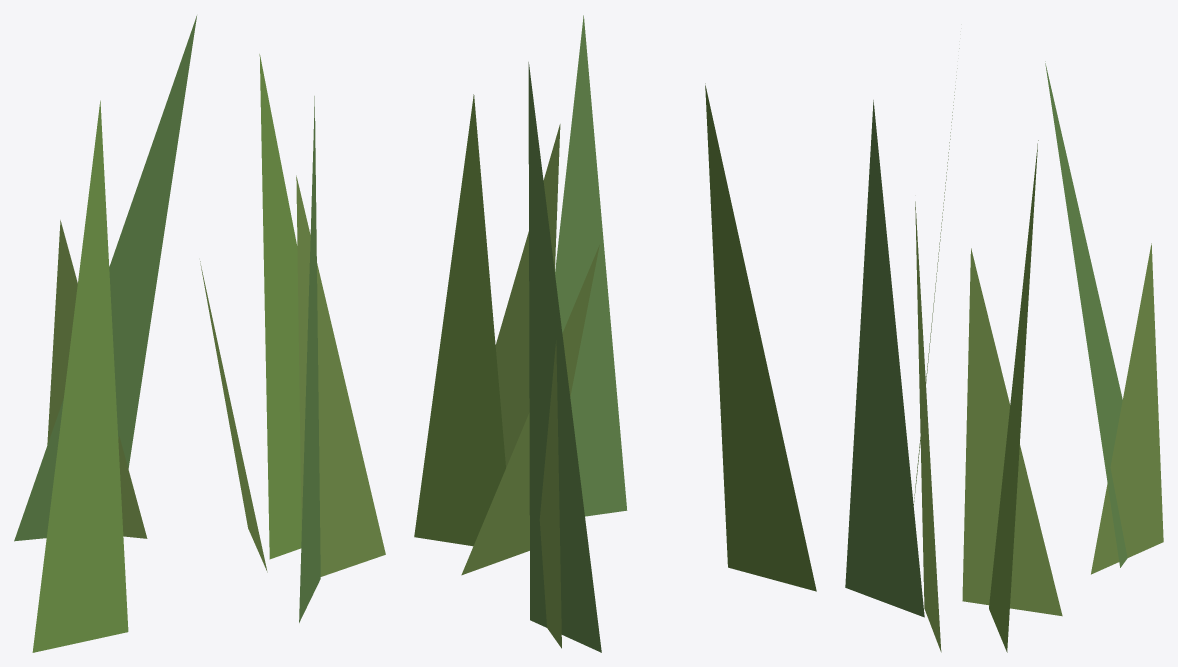
The model's file is grass_tuft.glb.
3 views of the same model, side by side, from view 1: azimuth 30°, elevation 25°; view 2: azimuth 150°, elevation 25°; view 3: azimuth 270°, elevation 25° (orthographic). The views are drawn at different scales.
Visible parts, largest first — view 1: grass_tuft; view 2: grass_tuft; view 3: grass_tuft.
Boxes of the visible parts, <box> form: grass_tuft: <box>14,16,385,652</box>; grass_tuft: <box>414,15,816,652</box>; grass_tuft: <box>845,48,1163,652</box>.
Bounding box in the file's own units: 0.5482 × 0.7669 × 0.4195.
